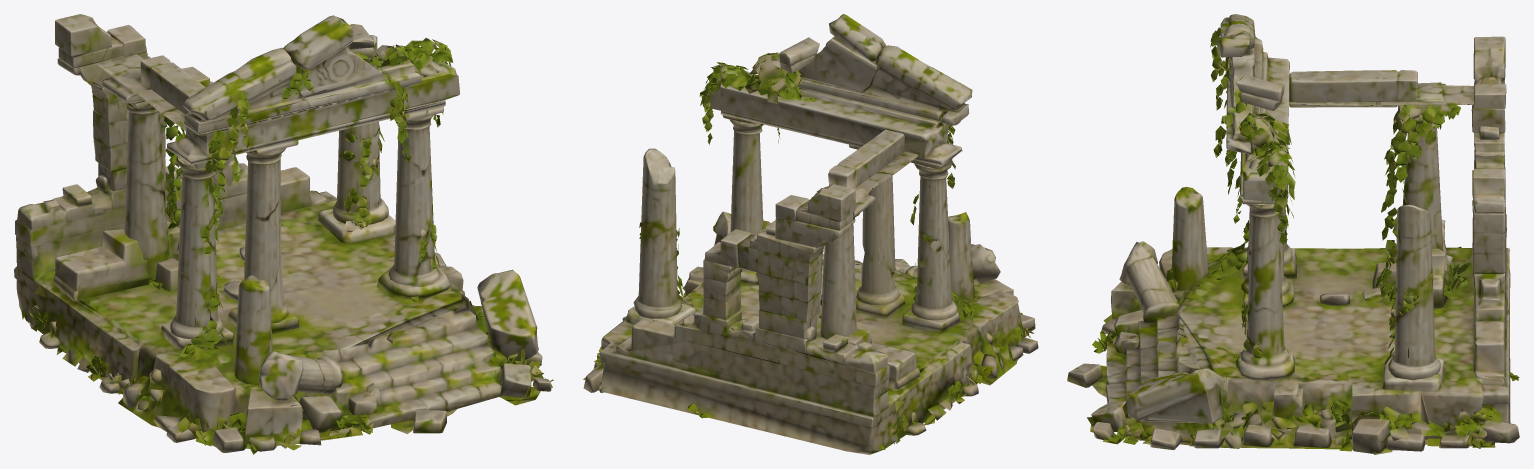
The model's file is Temple1.glb.
3 views of the same model, side by side, from view 1: azimuth 30°, elevation 25°; view 2: azimuth 150°, elevation 25°; view 3: azimuth 270°, elevation 25° (orthographic). The views are drawn at different scales.
Visible parts, largest first — view 1: geometry_0; view 2: geometry_0; view 3: geometry_0.
Boxes of the visible parts, x1,y1,x2,y2 form: geometry_0: (14, 14, 553, 454); geometry_0: (583, 14, 1038, 454); geometry_0: (1067, 14, 1519, 454).
Size of the model in its own units: 6.53 by 6 by 7.21.
Materials: 1 (1 with a texture image).
